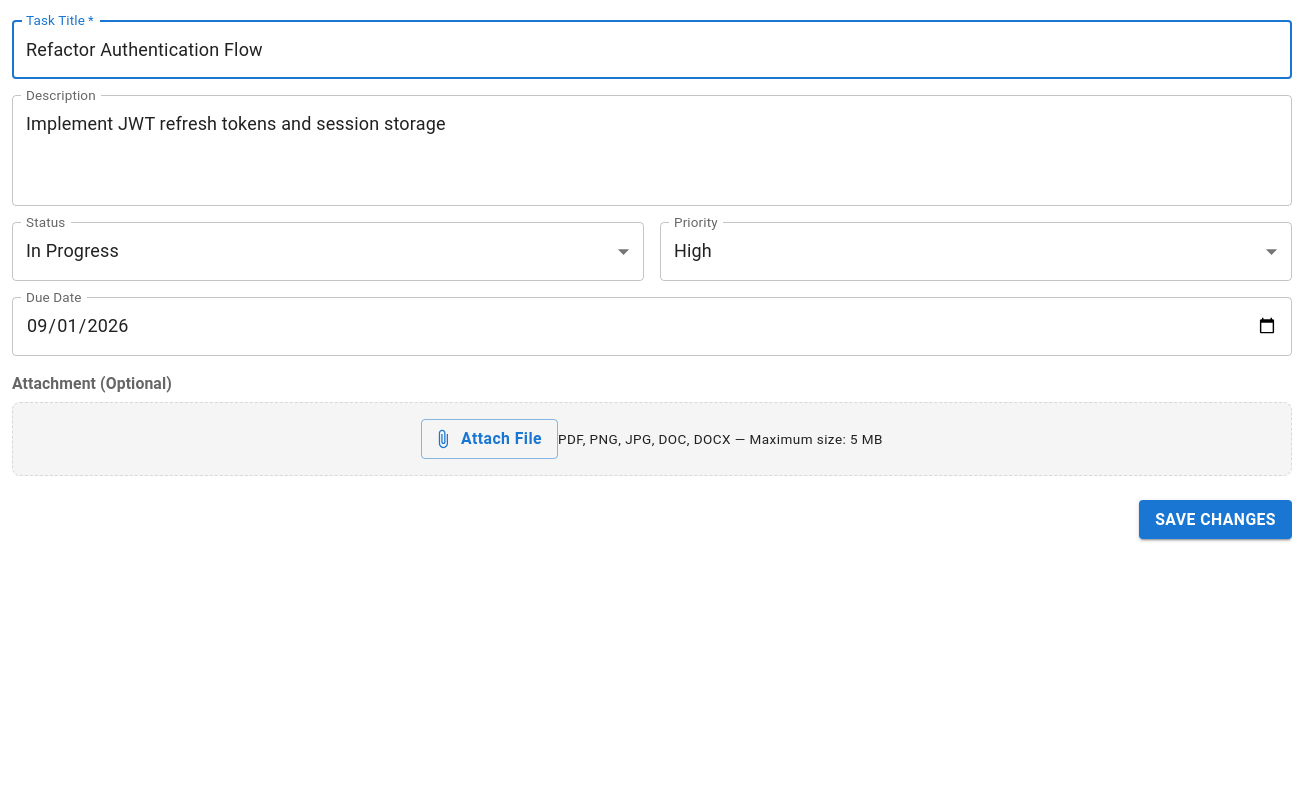
Test: TaskForm Edit Task Functionality › validation: validates required title when editing an existing task
Clear title field
Step 1. Clear the field labelled "Task Title *" → [652, 49], box x1=12 y1=20 x2=1292 y2=79
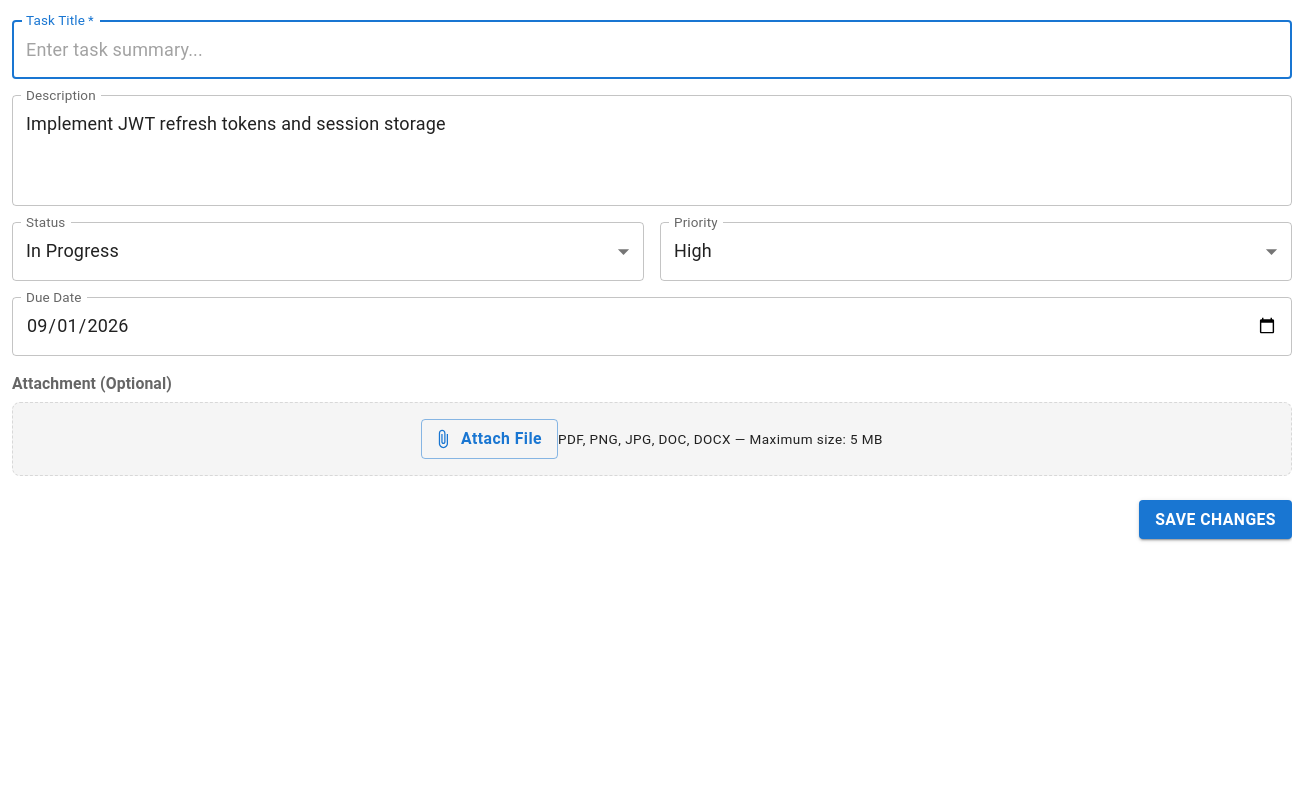
Step 2. Click the button "Save Changes" → [1216, 520], box x1=1139 y1=500 x2=1292 y2=540
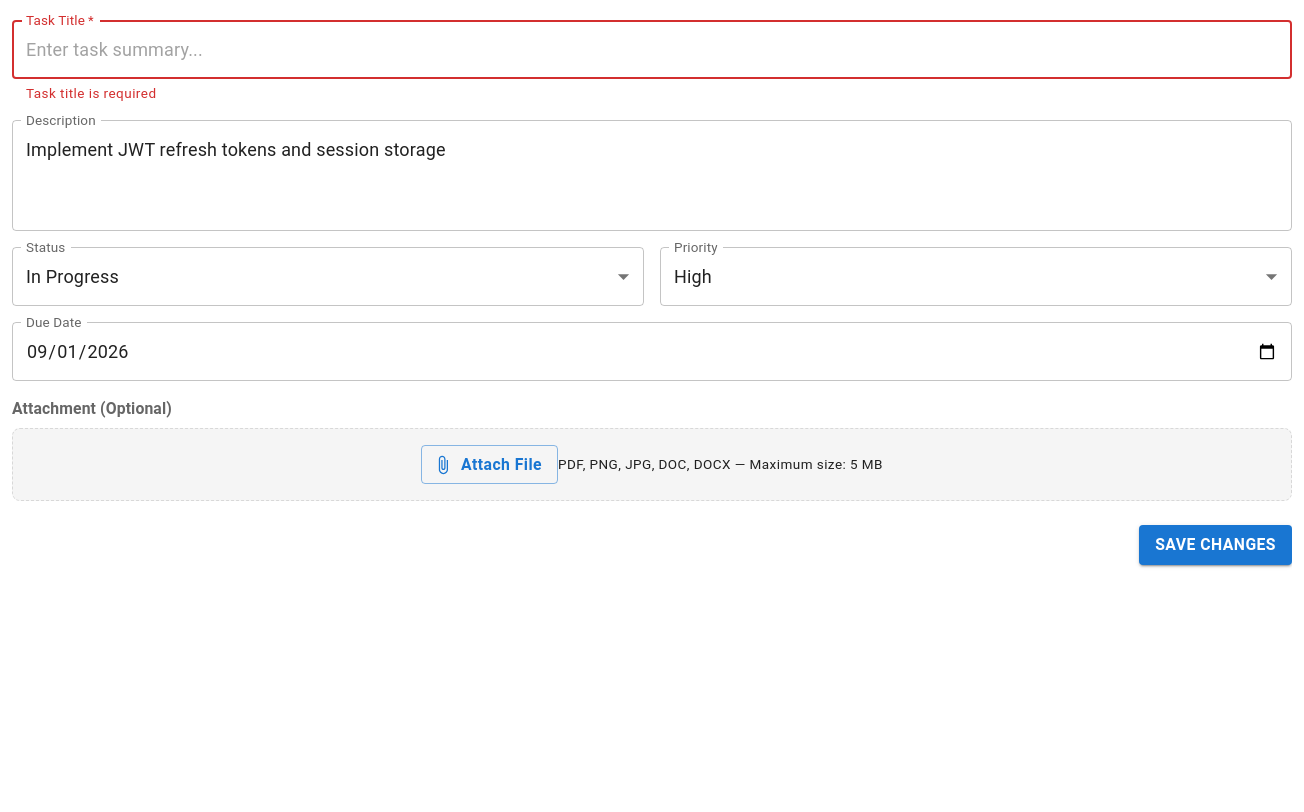
Expected: the text "Task title is required" is shown, x1=26 y1=85 x2=156 y2=101
